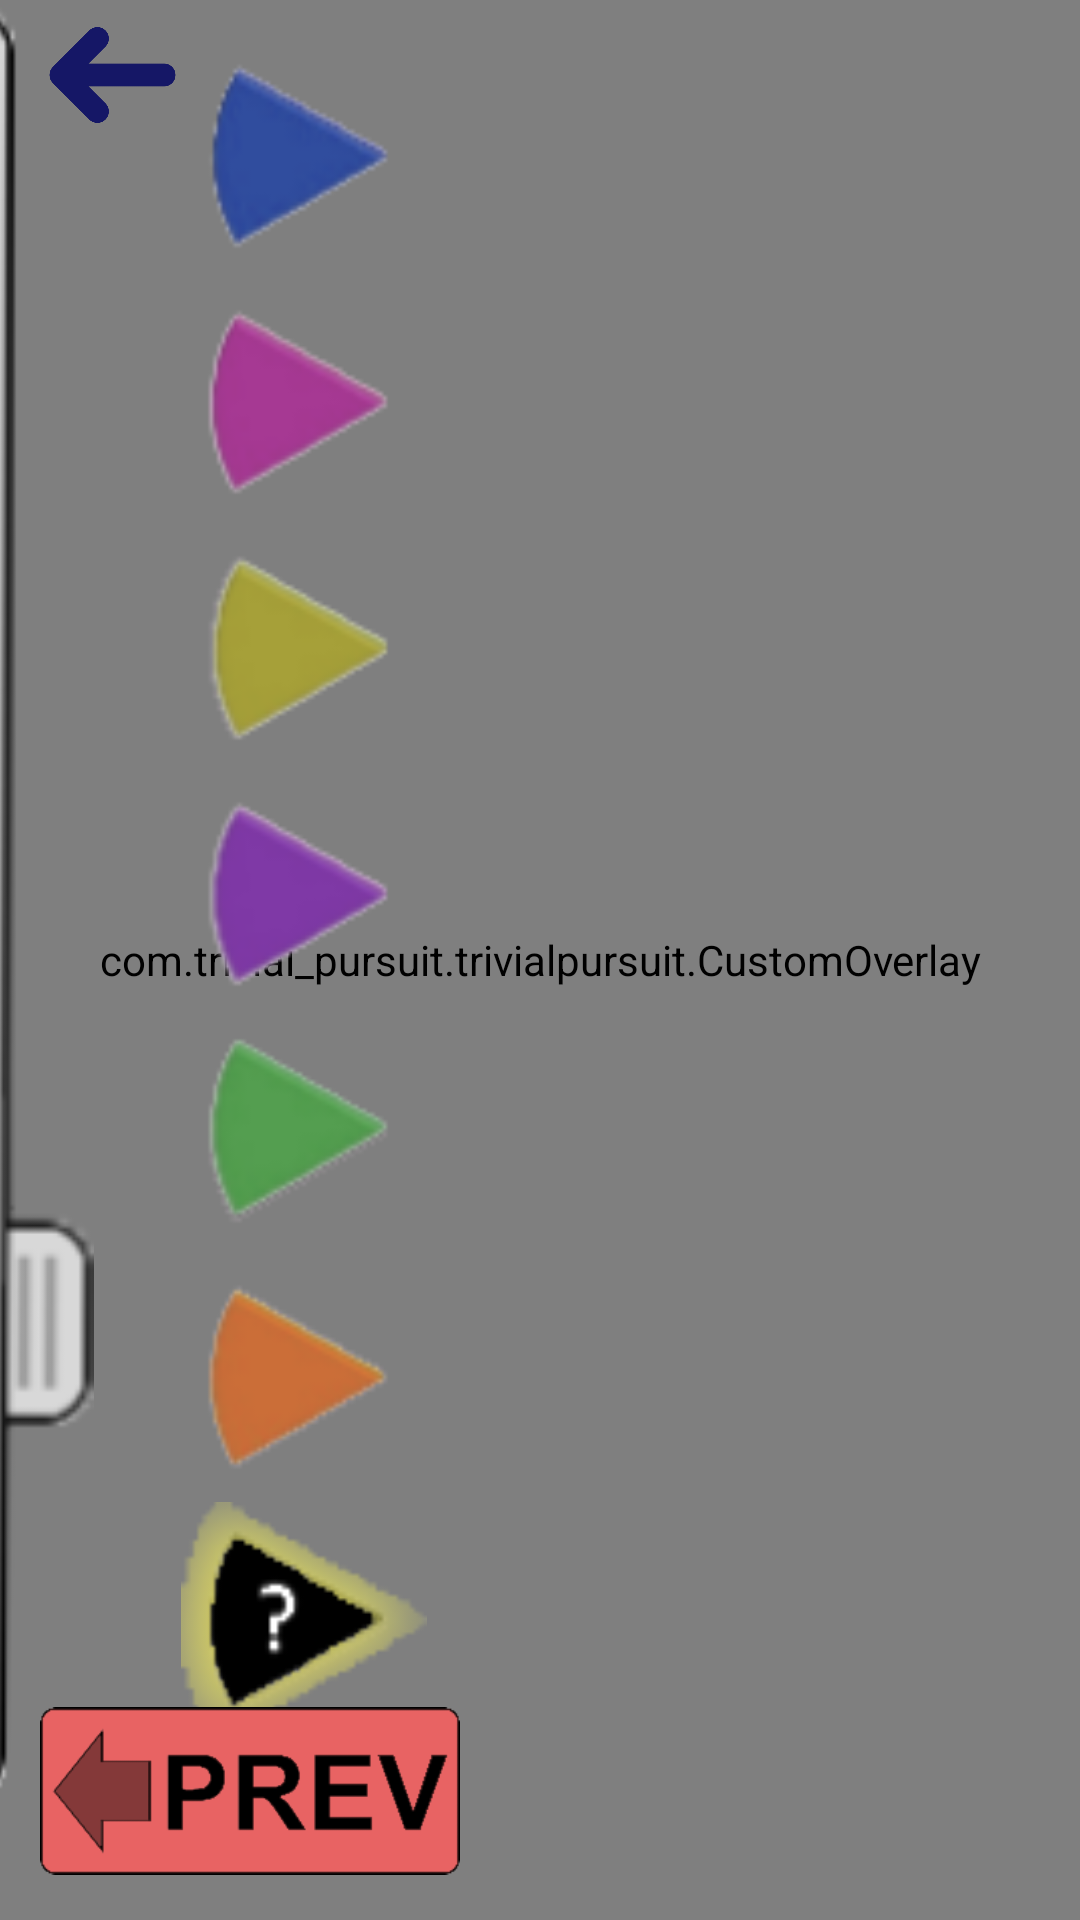

Named icons in this screenshot (1080 x 1920) and their centers, (x=x, y=y):
catblue: (x=300, y=156)
catgreen: (x=298, y=1126)
catorange: (x=297, y=1377)
catpink: (x=298, y=403)
catyellow: (x=299, y=648)
